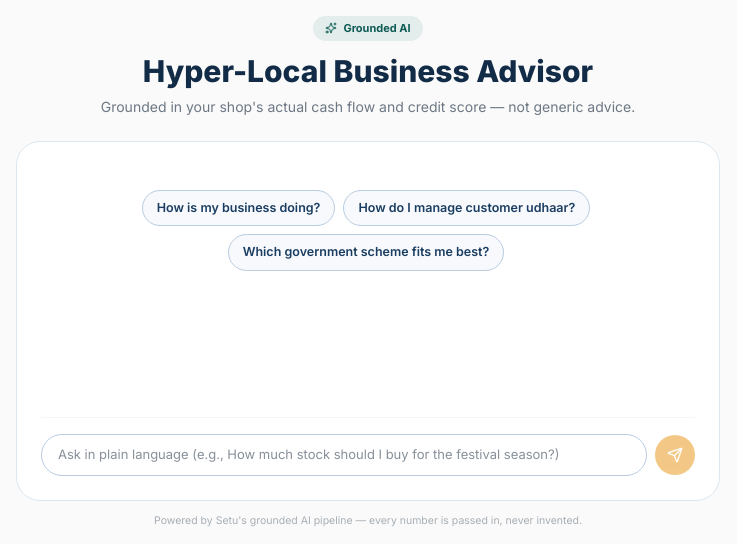
Scenario: AdvisorSaathi chat page › shows the unavailable fallback and never a client-fabricated answer when the stream fails
Step 1. Replace the text in the field with placeholder "Ask in plain language" with "q" → (344, 455), box [41, 434, 647, 476]
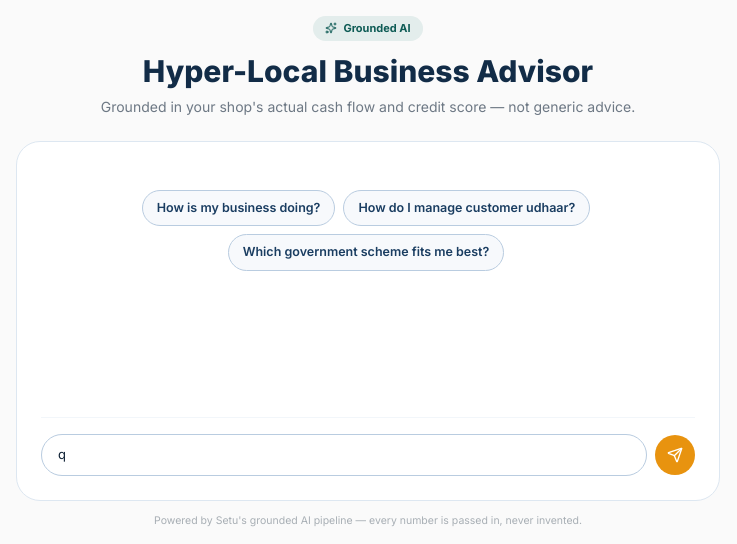
Step 2. Submit the form with placeholder "ask in plain language", box [41, 417, 695, 476]
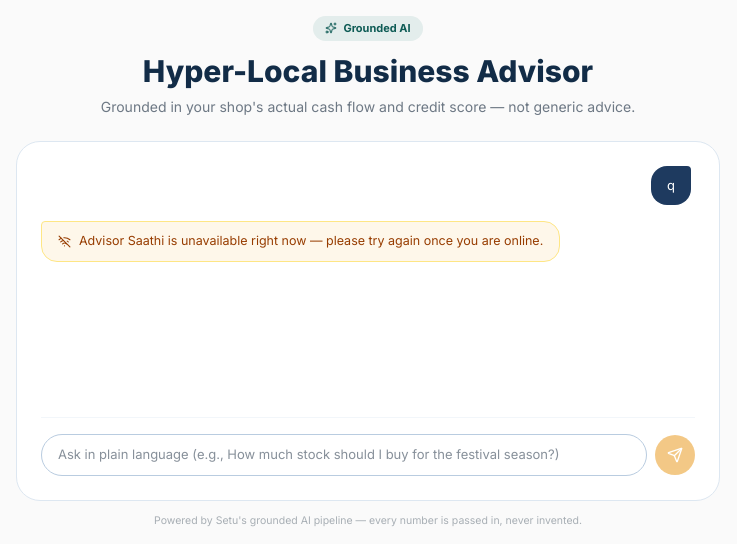
Expected: the text "Advisor Saathi is unavailable" is shown, [79, 233, 543, 248]
